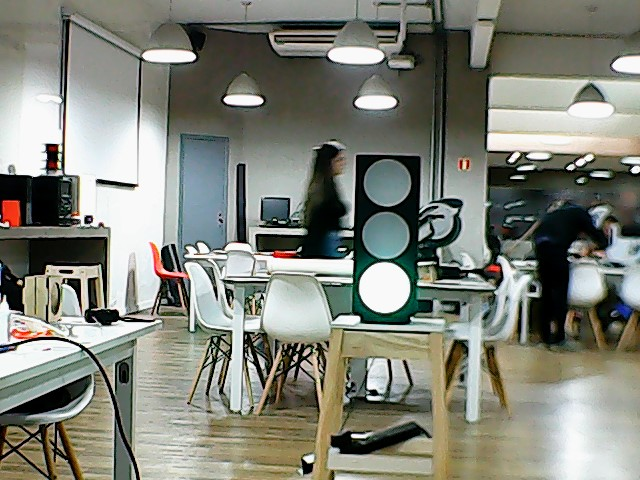verde: (353, 148, 426, 322)
